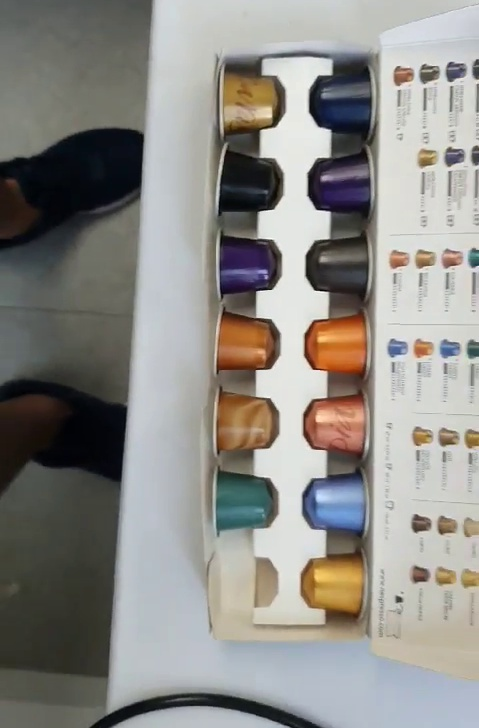capsule_12: (210, 385, 279, 460)
